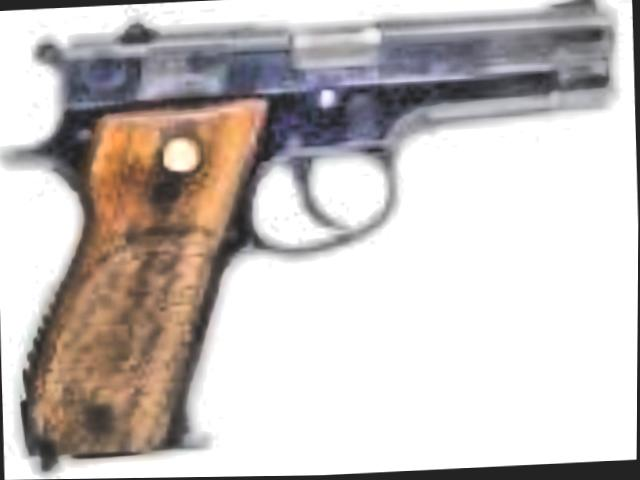pistol: (0, 0, 631, 466)
